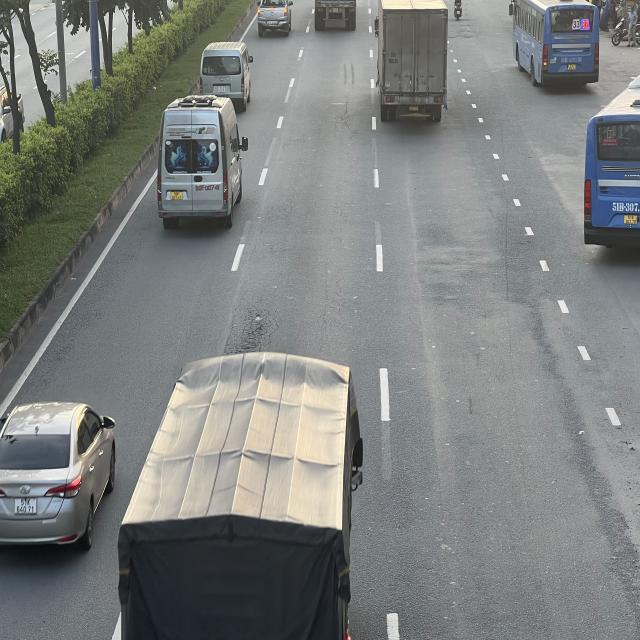car: (2, 402, 119, 553), (255, 0, 292, 36)
coach: (585, 84, 637, 251), (510, 0, 601, 88)
truck: (121, 356, 368, 640), (374, 1, 450, 126)
van: (160, 96, 251, 230), (197, 41, 252, 108)
